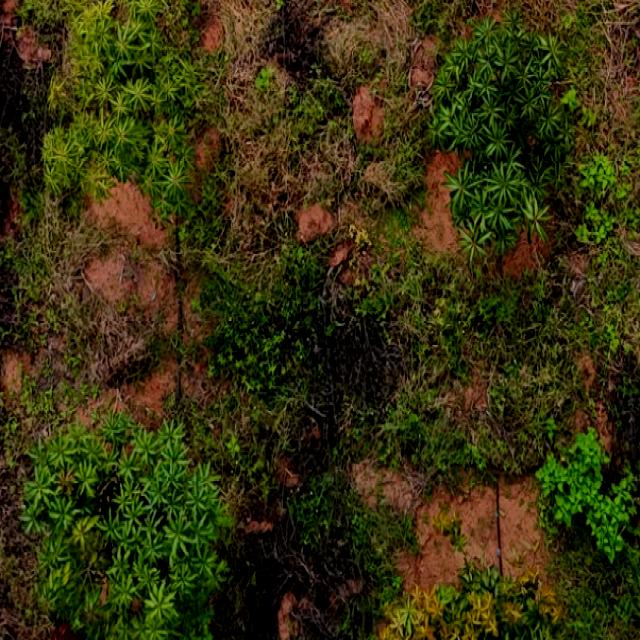mangoTree: (19, 403, 235, 640), (426, 17, 580, 268), (44, 0, 205, 220), (373, 558, 567, 640)
notMangoTree: (535, 424, 640, 556)
